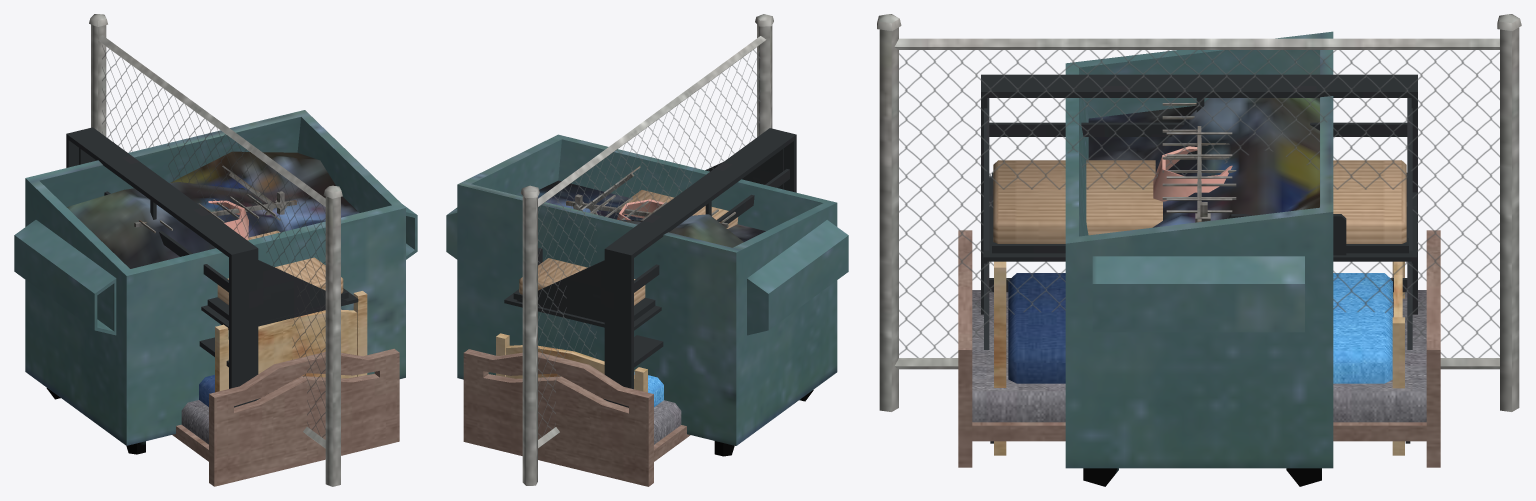
Rendered from props.glb.
3 renders of one model, left to right at view 1: azimuth 30°, elevation 25°; view 2: azimuth 150°, elevation 25°; view 3: azimuth 270°, elevation 25°, orthographic. The views are drawn at different scales.
Visible parts, largest first — view 1: diner_Dumpster, Bed, Bed_06, diner_Fence, Bed_03, trailer_Antenna_01, Lamps_01; view 2: diner_Dumpster, Bed, Bed_06, diner_Fence, Bed_03, trailer_Antenna_01, Lamps_01; view 3: diner_Dumpster, diner_Fence, Bed_06, Bed, Bed_03, trailer_Antenna_01, Lamps_01.
Part boxes in pixels (x1,y1,x2,y2): diner_Dumpster: [14, 110, 417, 454]; Bed: [172, 348, 399, 486]; Bed_06: [66, 127, 358, 407]; diner_Fence: [89, 14, 342, 486]; Bed_03: [199, 291, 367, 406]; trailer_Antenna_01: [134, 165, 297, 233]; Lamps_01: [208, 200, 248, 240]; diner_Dumpster: [446, 134, 848, 456]; Bed: [463, 349, 690, 486]; Bed_06: [504, 128, 796, 407]; diner_Fence: [520, 14, 773, 485]; Bed_03: [496, 333, 663, 406]; trailer_Antenna_01: [566, 166, 735, 227]; Lamps_01: [617, 199, 664, 220]; diner_Dumpster: [1065, 31, 1333, 486]; diner_Fence: [877, 14, 1521, 411]; Bed_06: [981, 74, 1417, 443]; Bed: [958, 230, 1440, 467]; Bed_03: [994, 261, 1404, 455]; trailer_Antenna_01: [1162, 103, 1236, 222]; Lamps_01: [1153, 146, 1232, 201].
Bounding box in the file's own units: 2.98 × 2.63 × 3.9.
22 materials, 21 textured.
